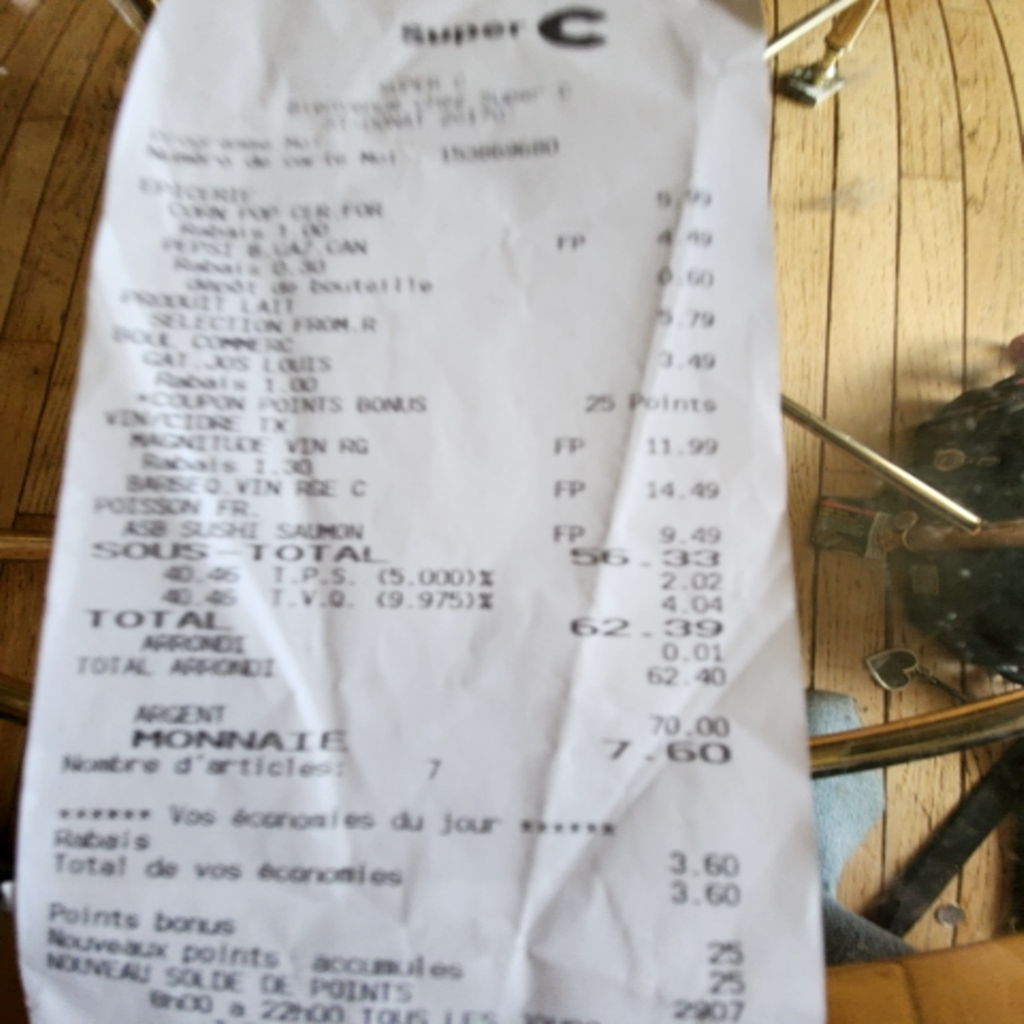recipt: (13, 0, 823, 1020)
